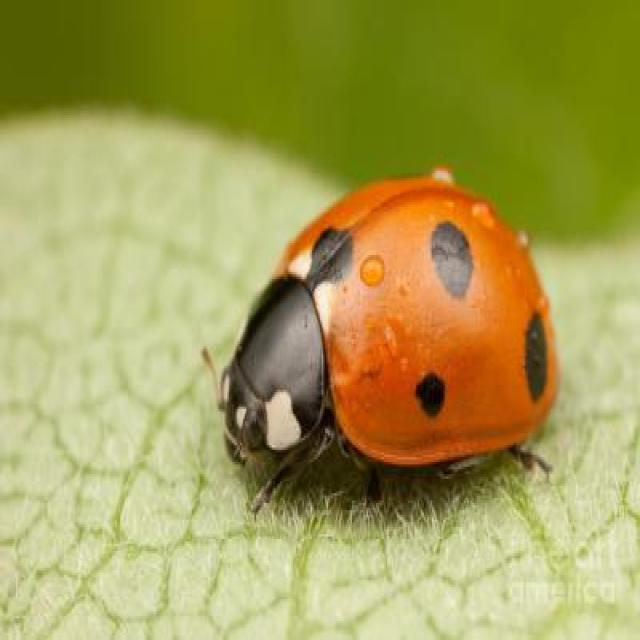body: (222, 186, 557, 477)
insect: (192, 179, 556, 524)
legs: (245, 443, 553, 528)
wings: (272, 182, 557, 462)
